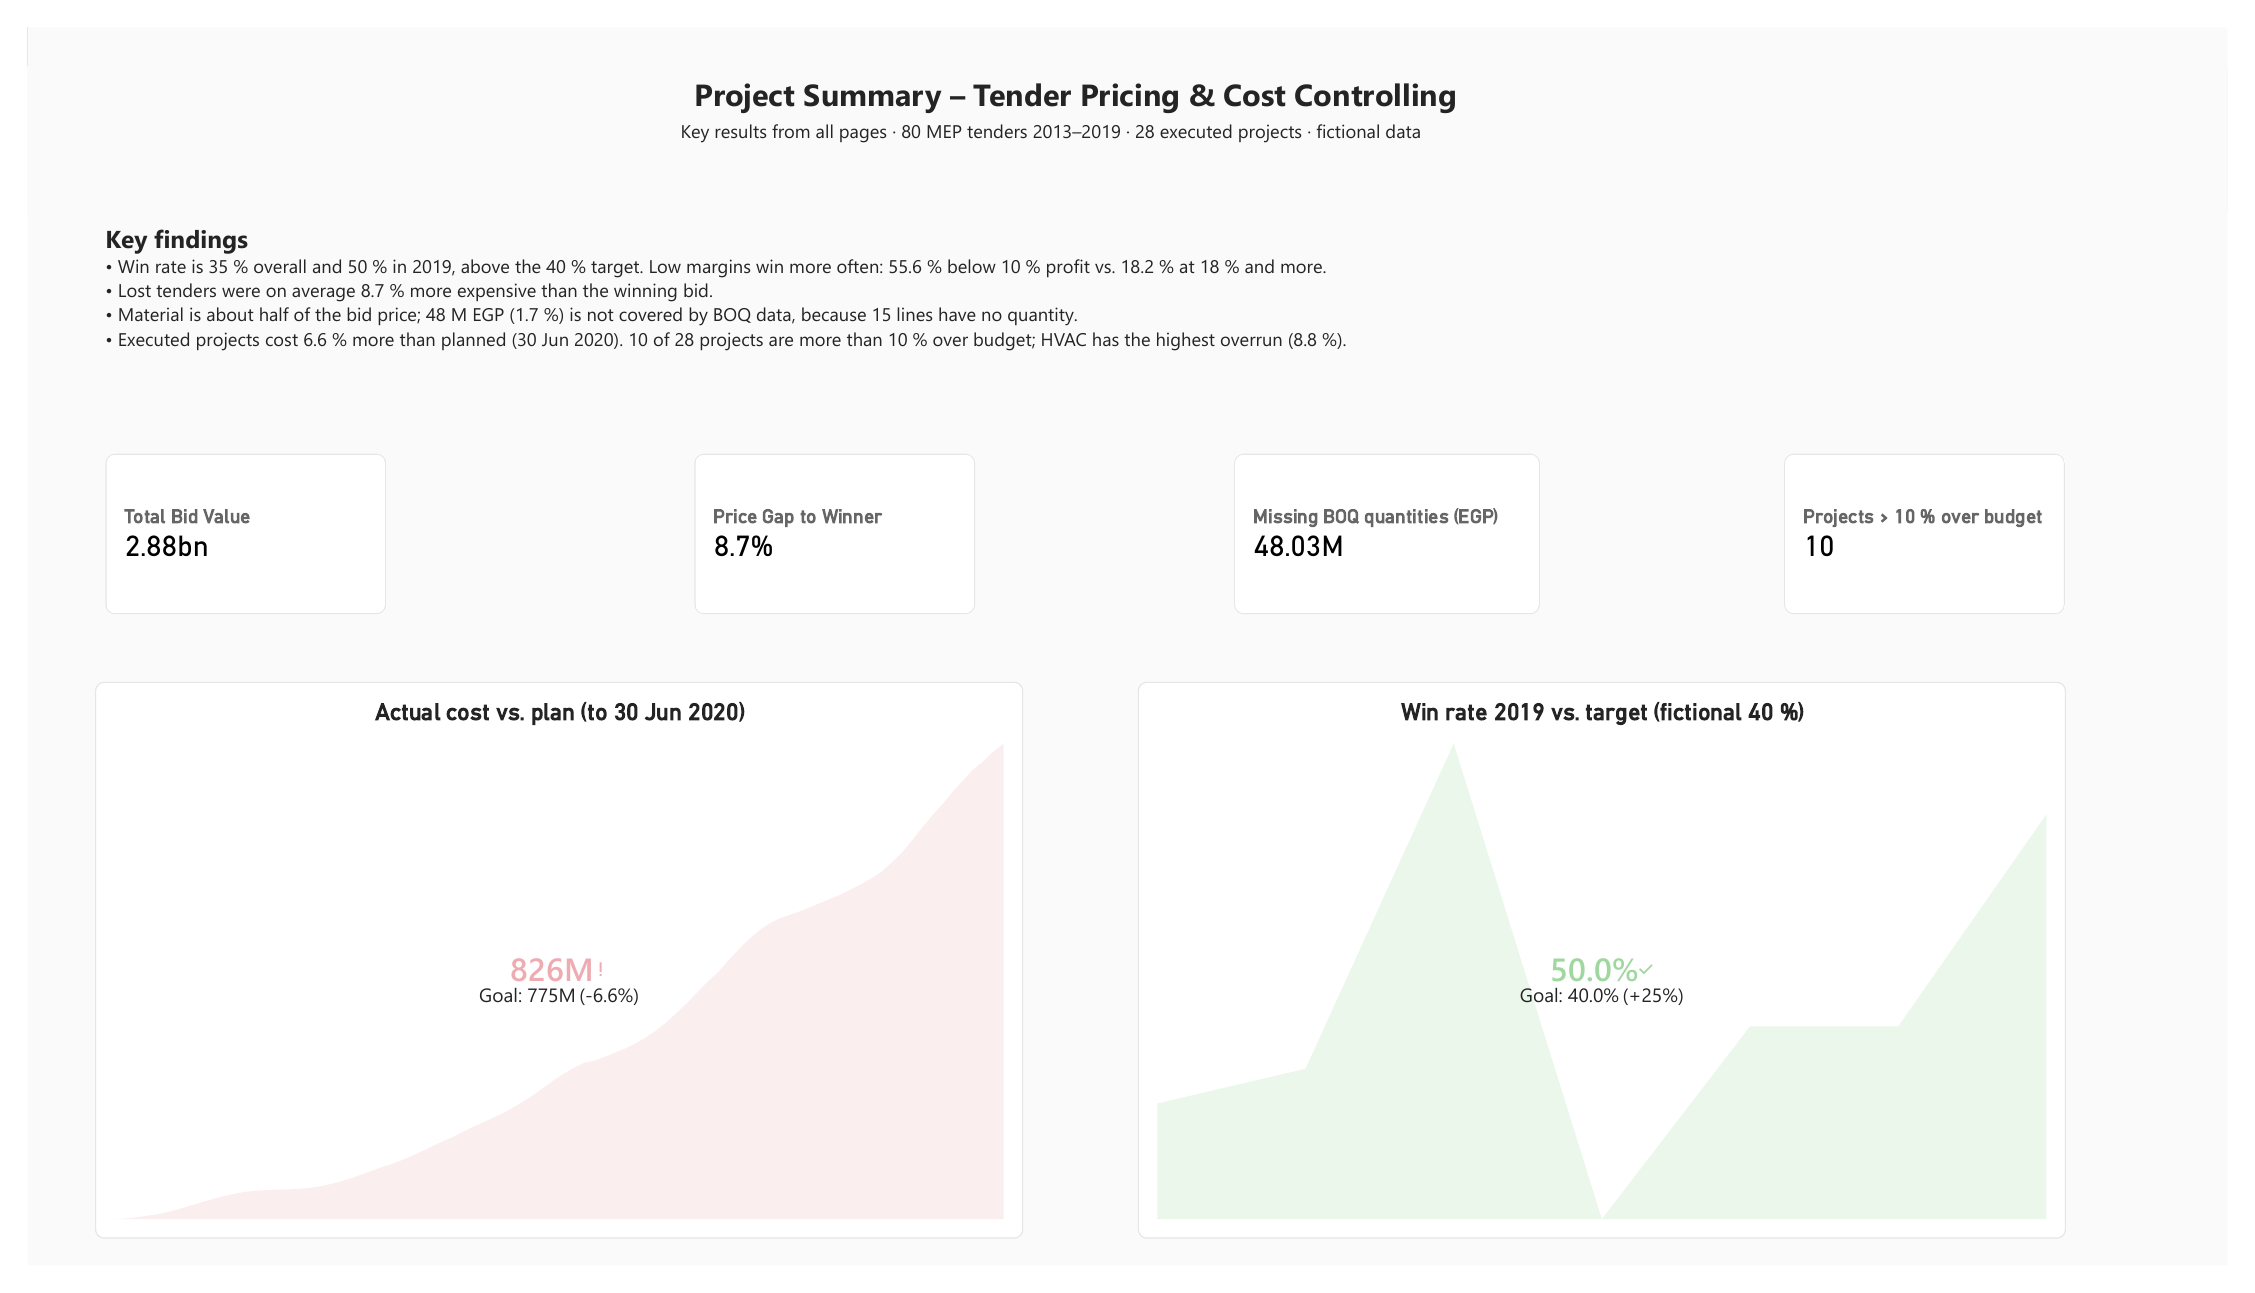

The dashboard page shown, as its layout file describes it:
{"tool":"powerbi","page":{"name":"Summary","canvas":[1920,1080],"ordinal":0},"visuals":[{"type":"textbox","box":[582,40,756,56],"z":0},{"type":"textbox","box":[570,80,1220,40],"z":1000},{"type":"kpi","title":"Actual cost vs. plan (to 30 Jun 2020)","fields":{"Goal":["project_costs.Planned Cost (cumulative)"],"Indicator":["project_costs.Actual Cost (cumulative)"],"TrendLine":["Calendar.MonthStart"]},"box":[59.2,570.8,810,486],"z":2000},{"type":"kpi","title":"Win rate 2019 vs. target (fictional 40 %)","fields":{"Goal":["tenders.Win Rate Target"],"Indicator":["tenders.Win Rate"],"TrendLine":["Calendar.Year"]},"box":[969.2,570.8,810,486],"z":3000},{"type":"cardVisual","fields":{"Data":["tenders.Total Bid Value"]},"box":[68.3,371.7,245,140],"z":4000},{"type":"cardVisual","fields":{"Data":["tenders.Price Gap to Winner"]},"box":[581.7,371.7,245,140],"z":5000},{"type":"cardVisual","fields":{"Data":["Waterfall Steps.Missing BOQ quantities"]},"box":[1053.3,371.7,266.7,140],"z":6000},{"type":"cardVisual","fields":{"Data":["ProjectStatus.Projects over Budget"]},"box":[1533.3,371.7,245,140],"z":7000},{"type":"textbox","box":[68.3,170,1118.3,186.7],"z":8000}]}

Visuals, with their boxes in screenshot pixels (x1, y1, x2, y2), scaled from the page's 1920x1080 canvas onto the 2255x1293 screenshot:
textbox: 684 48 1571 115
textbox: 669 96 2102 144
"Actual cost vs. plan (to 30 Jun 2020)" kpi: 70 683 1021 1265
"Win rate 2019 vs. target (fictional 40 %)" kpi: 1138 683 2090 1265
cardVisual - tenders.Total Bid Value: 80 445 368 613
cardVisual - tenders.Price Gap to Winner: 683 445 971 613
cardVisual - Waterfall Steps.Missing BOQ quantities: 1237 445 1550 613
cardVisual - ProjectStatus.Projects over Budget: 1801 445 2089 613
textbox: 80 204 1394 427
